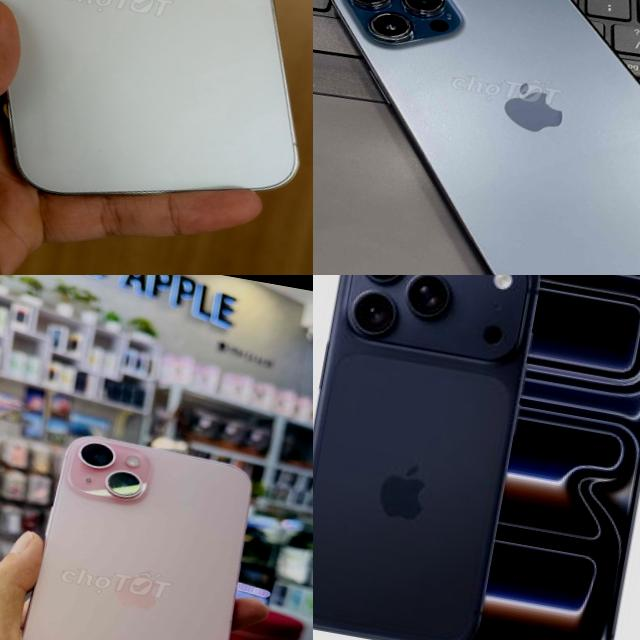gen_12_13: (313, 0, 640, 275), (0, 0, 313, 238)
gen_15: (0, 417, 272, 640)
gen_17: (313, 275, 555, 640)
